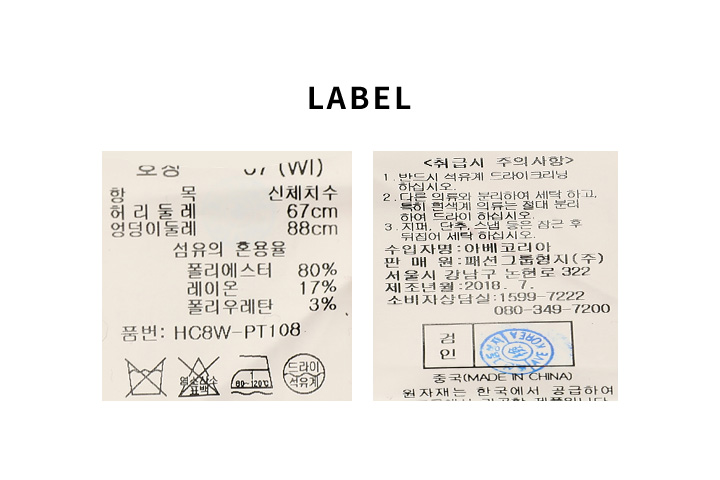KR_dry_clean_petroleum: (280, 349, 328, 396)
KR_iron_low_temp_with_cloth: (228, 350, 278, 400)
KR_no_bleach: (173, 352, 222, 399)
KR_no_wash: (120, 352, 171, 398)
